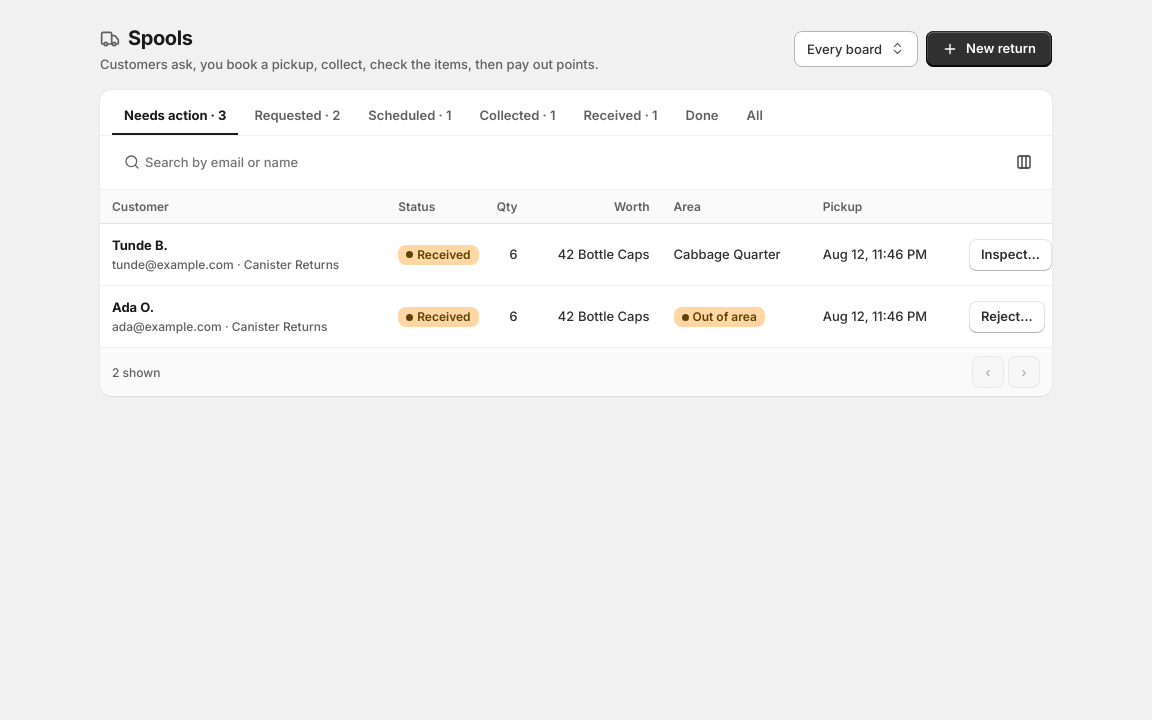
Scenario: the returns queue › never offers inspect on an out-of-area row, on the row or in its detail
This screenshot has width=1152, height=720.
Expected: the text "Out of area" is shown, [674,307,765,327]
Expected: the button "Reject…" is shown, [969,301,1045,333]
The detail draws every allowed action, and inspect is not among them.
Click the text "Ada O." at (133, 307), box [112,299,154,315]
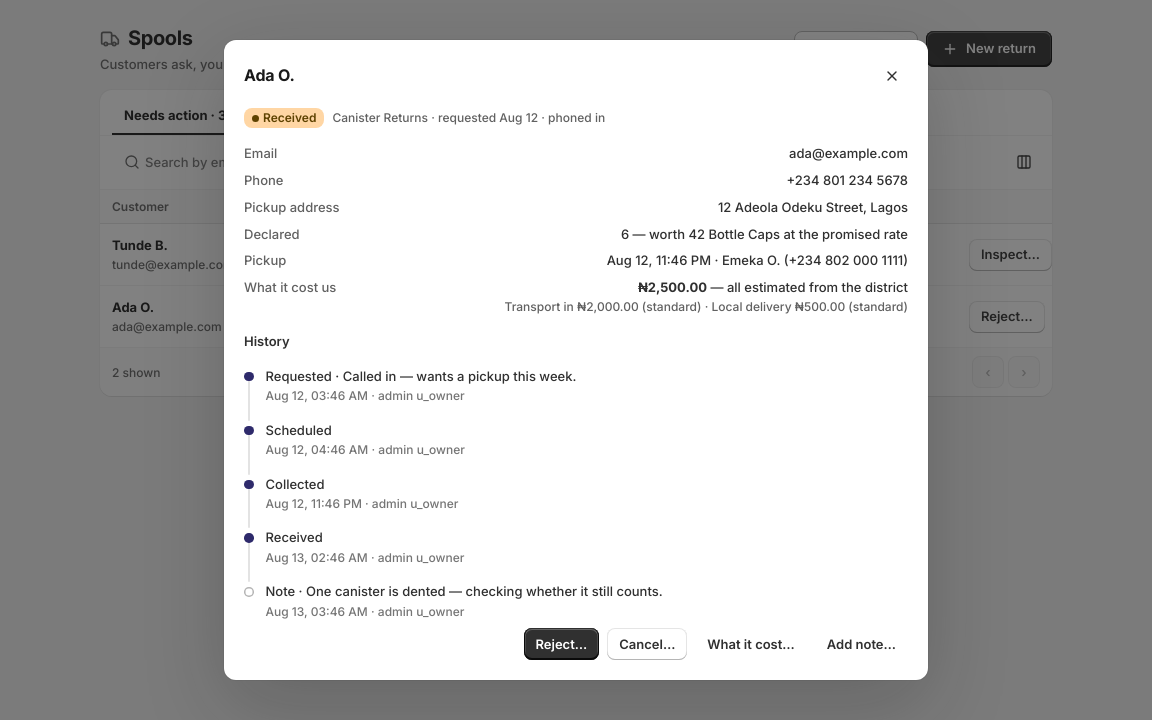
Expected: the button "Reject…" is shown, [524,628,599,660]
Expected: the button "Cancel…" is shown, [607,628,687,660]
Expected: the button "Add note…" is shown, [815,628,908,660]
